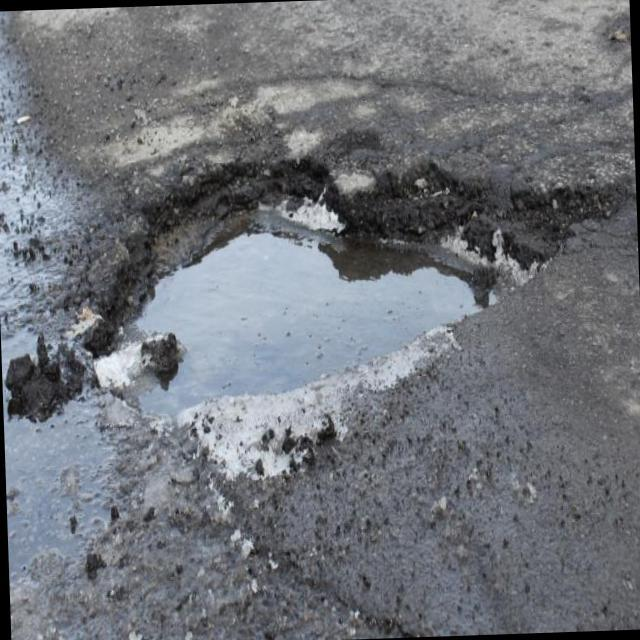Pothole: (87, 155, 626, 411)
